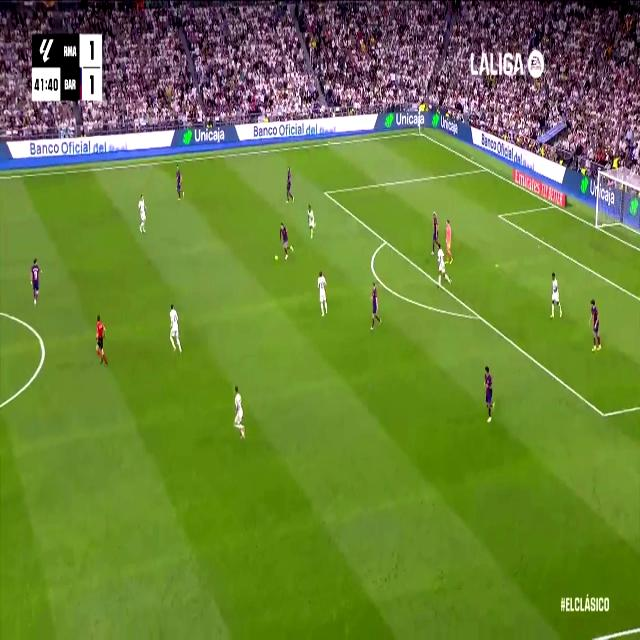bigarea_bottom_inner: (599, 402, 609, 426)
bigarea_top_inner: (322, 186, 328, 199)
bottom_arc_area_intersection: (474, 307, 483, 324)
corner: (416, 128, 424, 138)
smallarea_top_inner: (497, 210, 502, 221)
top_arc_area_intersection: (382, 233, 389, 248)
